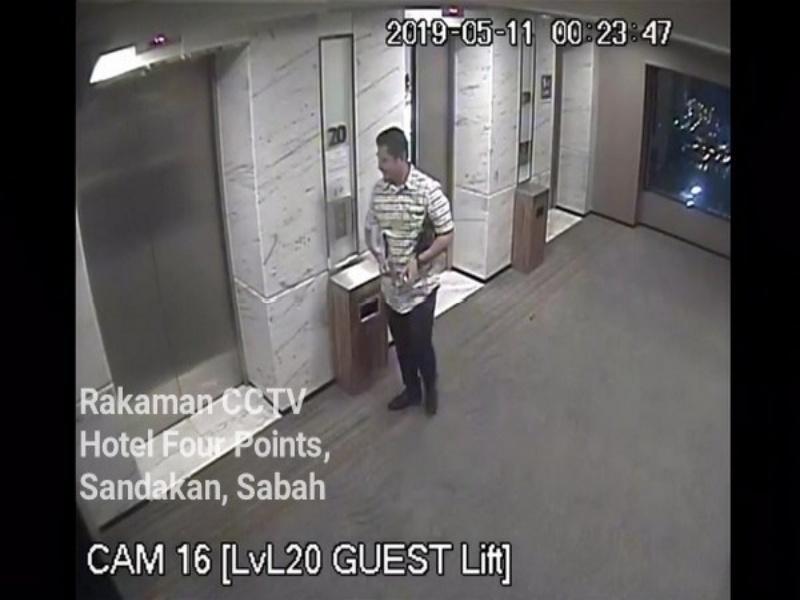person: (354, 124, 464, 419)
